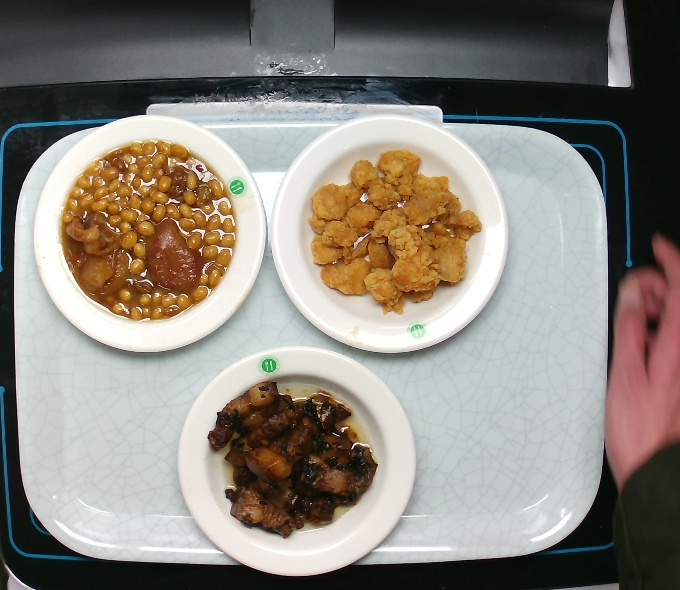wcq-GanCaiRou: (205, 377, 381, 541)
wcq-HuangDouZhuJiao: (54, 136, 244, 324)
wcq-JiMiHua: (302, 144, 487, 319)
